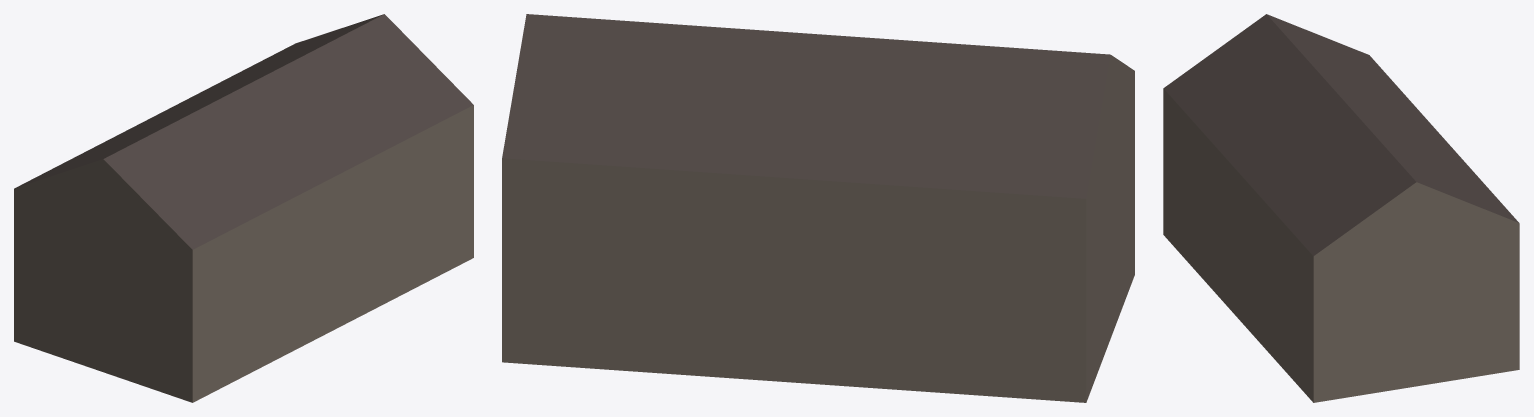
The picture shows the model from 3 angles, left to right: view 1: azimuth 30°, elevation 25°; view 2: azimuth 150°, elevation 25°; view 3: azimuth 270°, elevation 25°; orthographic projection. The views are drawn at different scales.
Visible parts, largest first — view 1: HP-w408450694; view 2: HP-w408450694; view 3: HP-w408450694.
Part boxes in pixels (left/top/right/bottom): HP-w408450694: left=14, top=14, right=473, bottom=402; HP-w408450694: left=502, top=14, right=1134, bottom=402; HP-w408450694: left=1163, top=14, right=1519, bottom=402.
Size of the model in its own units: 17.67 by 8.36 by 13.21.
